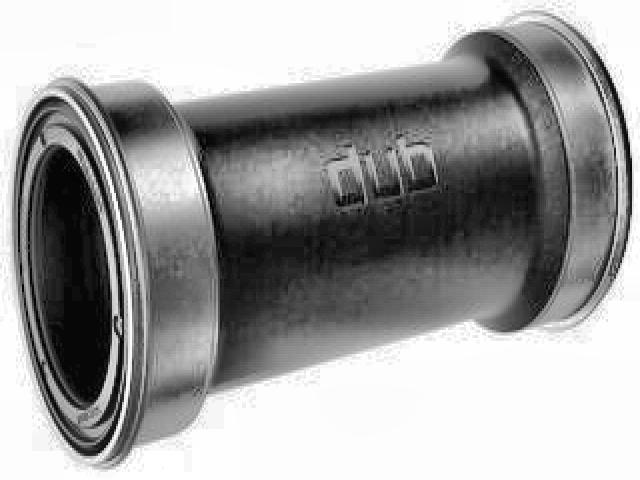bottom_bracket: (9, 9, 636, 470)
